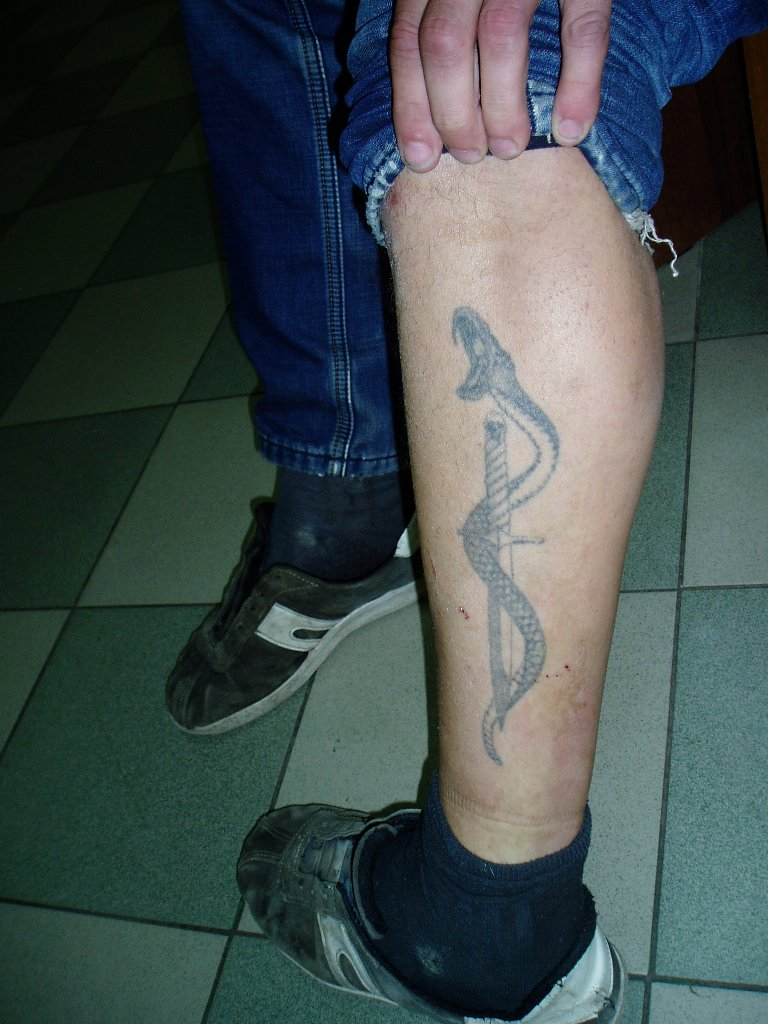tatu7_zmeya: (430, 284, 583, 838)
